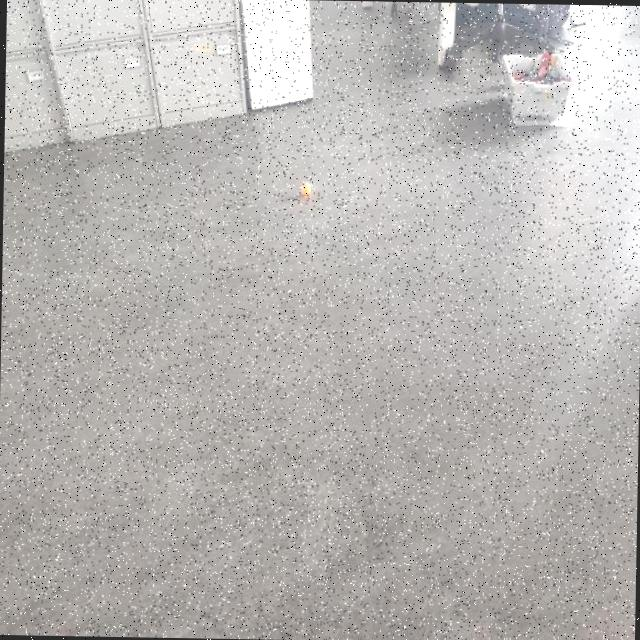ping-pong-ball: (300, 180, 310, 198)
